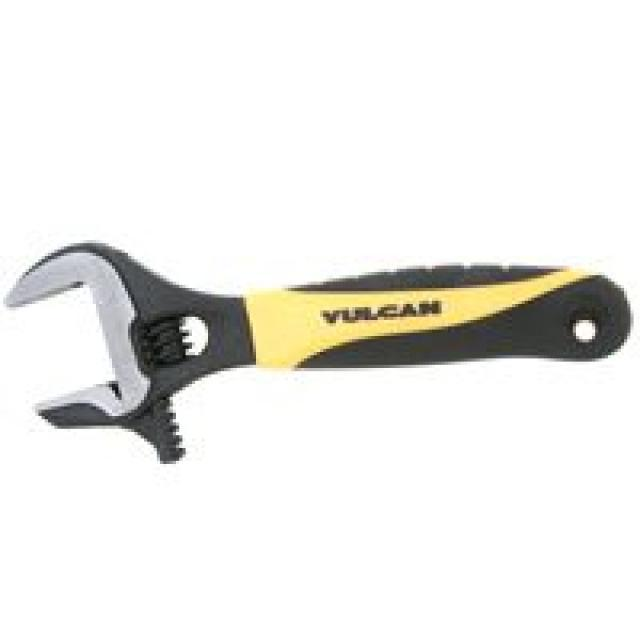wrench: (5, 239, 633, 461)
